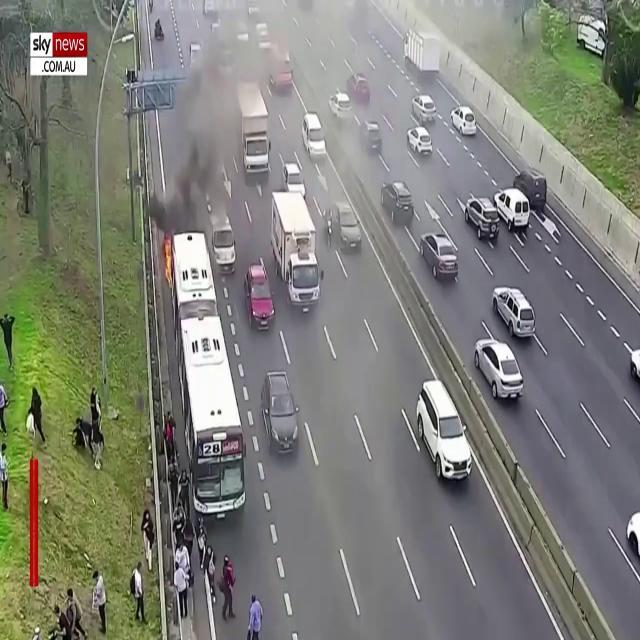Fire: (163, 229, 174, 287)
Smoke: (162, 24, 240, 238)
